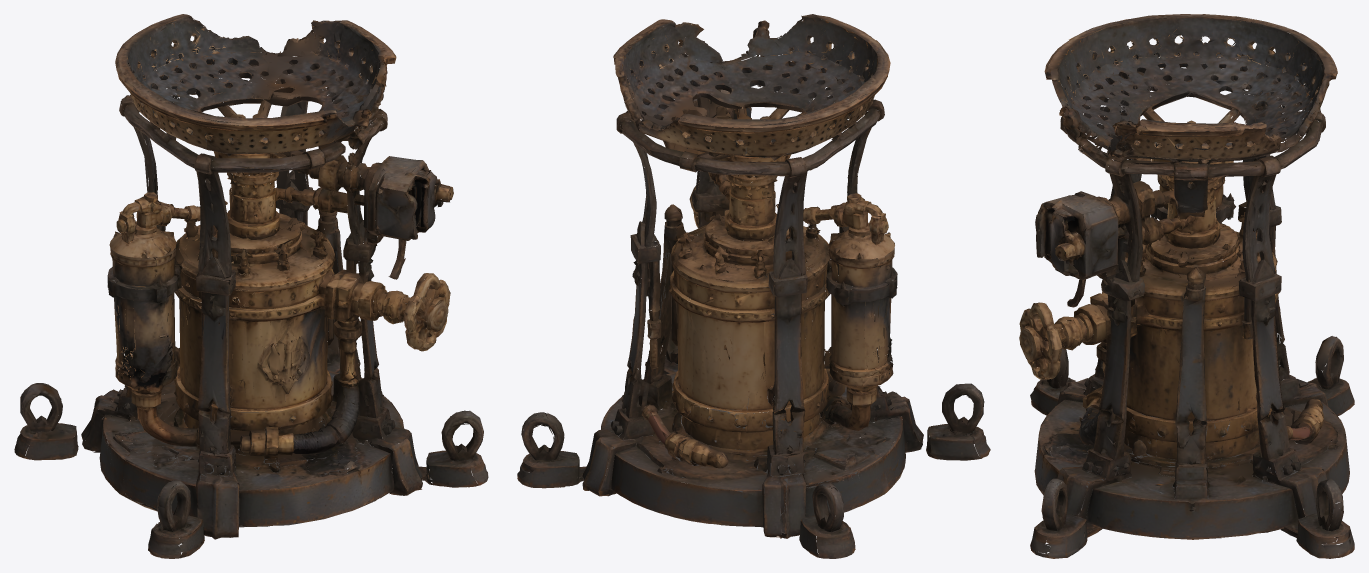
File: burner_broken.glb
3 renders of one model, left to right at view 1: azimuth 30°, elevation 25°; view 2: azimuth 150°, elevation 25°; view 3: azimuth 270°, elevation 25°, orthographic. The views are drawn at different scales.
Parts seen in each view (by area): view 1: material; view 2: material; view 3: material.
Boxes of the visible parts, bbox=[...] form: material: bbox=[14, 14, 488, 558]; material: bbox=[517, 14, 990, 558]; material: bbox=[1019, 14, 1354, 558].
Bounding box in the file's own units: 0.7063 × 0.8174 × 0.6015.
1 material, 1 textured.
